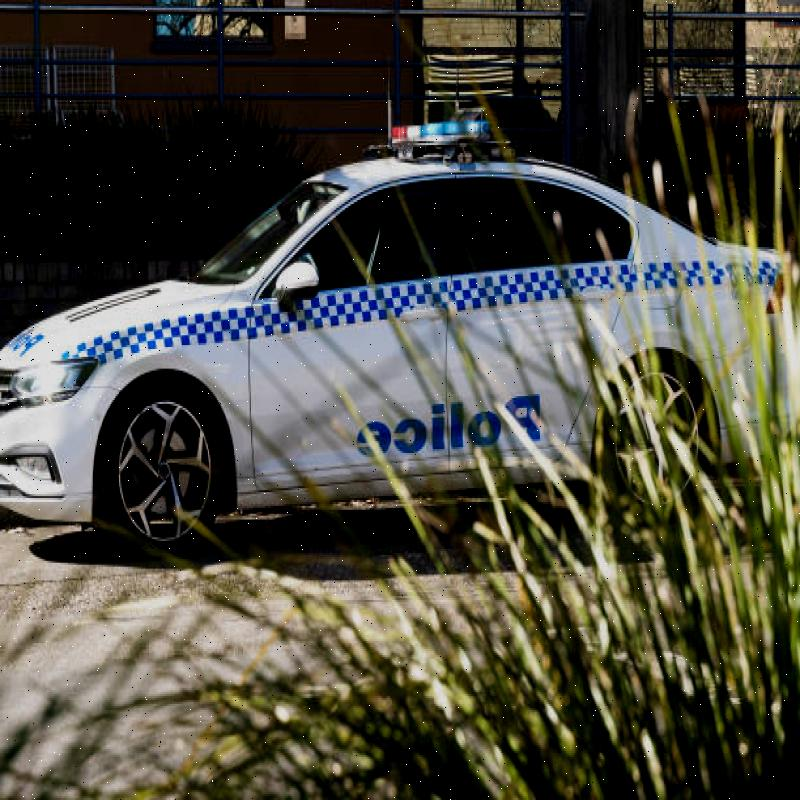AmbulanceSiren: (380, 108, 505, 158)
